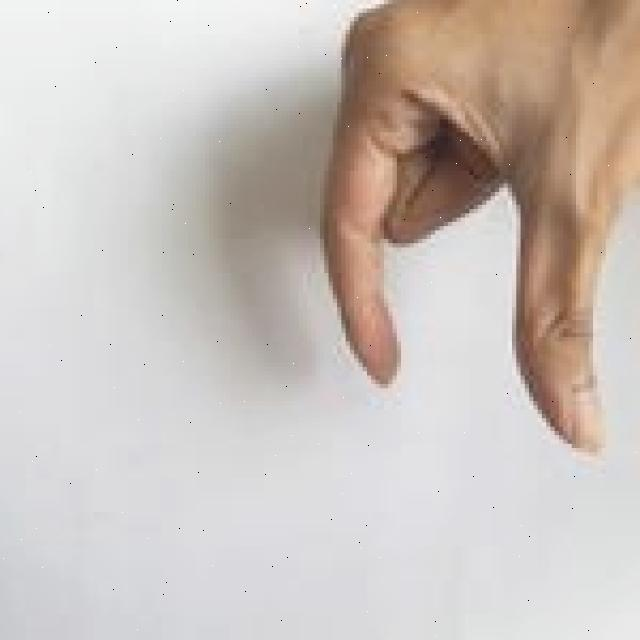Q: (320, 0, 640, 458)
